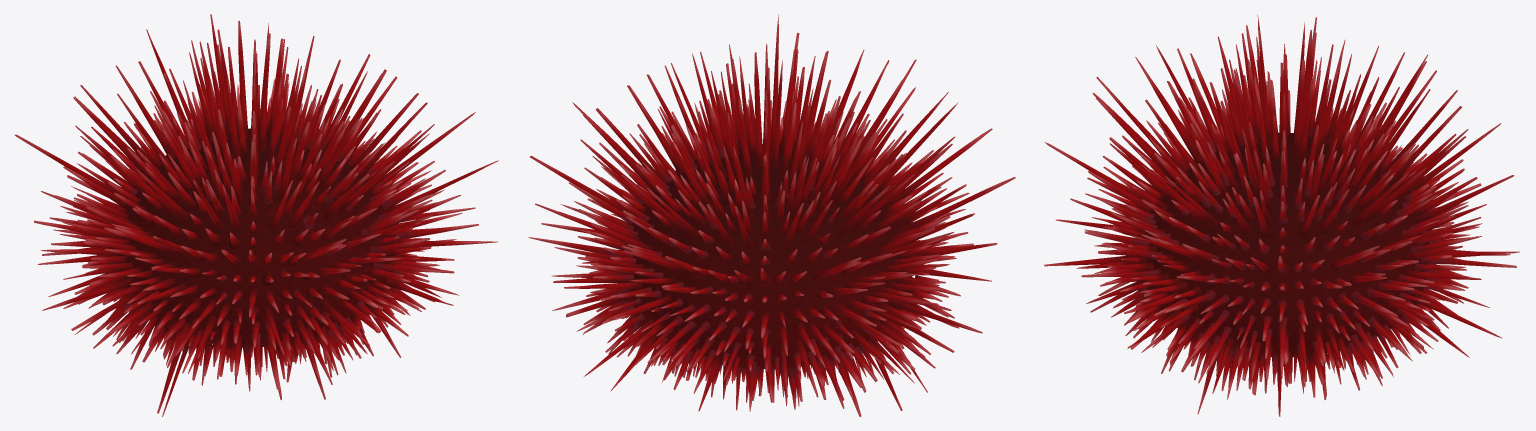
The model's file is urchin.glb.
3 views of the same model, side by side, from view 1: azimuth 30°, elevation 25°; view 2: azimuth 150°, elevation 25°; view 3: azimuth 270°, elevation 25° (orthographic). The views are drawn at different scales.
Visible parts, largest first — view 1: red_sea_urchin_LOD1.1; view 2: red_sea_urchin_LOD1.1; view 3: red_sea_urchin_LOD1.1.
Part boxes in pixels (left/top/right/bottom): red_sea_urchin_LOD1.1: left=15, top=14, right=498, bottom=416; red_sea_urchin_LOD1.1: left=528, top=14, right=1015, bottom=416; red_sea_urchin_LOD1.1: left=1044, top=14, right=1519, bottom=416.
Bounding box in the file's own units: 0.2143 × 0.1713 × 0.2004.
1 material, 1 textured.
